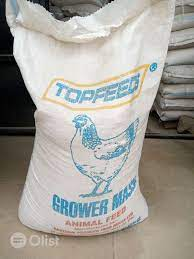feed_bag: (2, 1, 188, 241)
